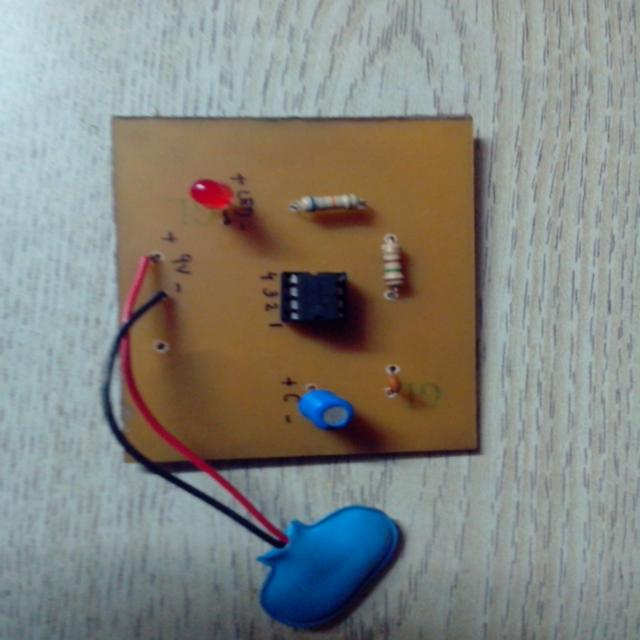pcb: (108, 113, 483, 470), (279, 269, 349, 326)
